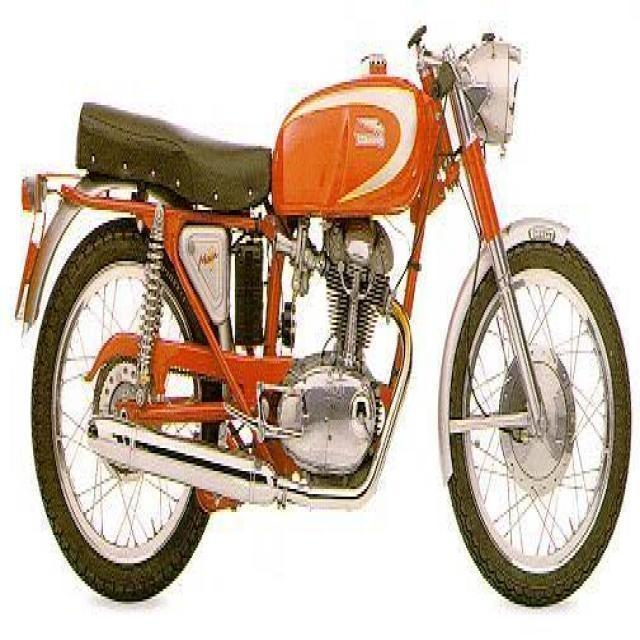Motorcycle: (15, 36, 632, 620)
